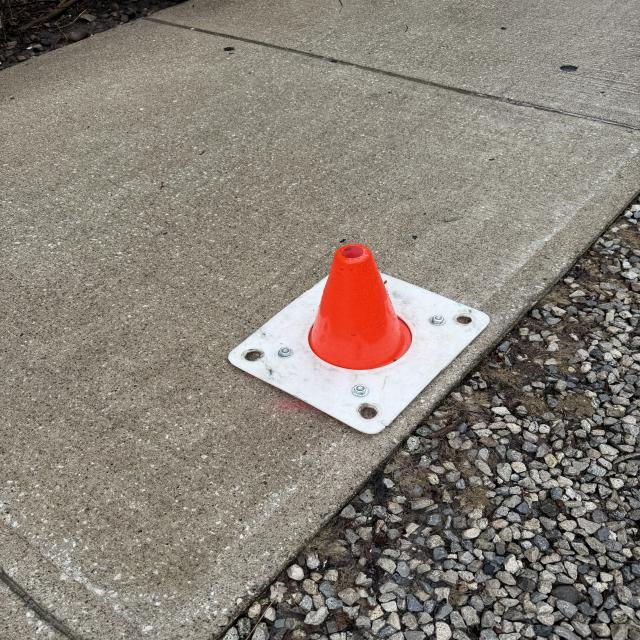Traffic Cone: (226, 243, 492, 436)
